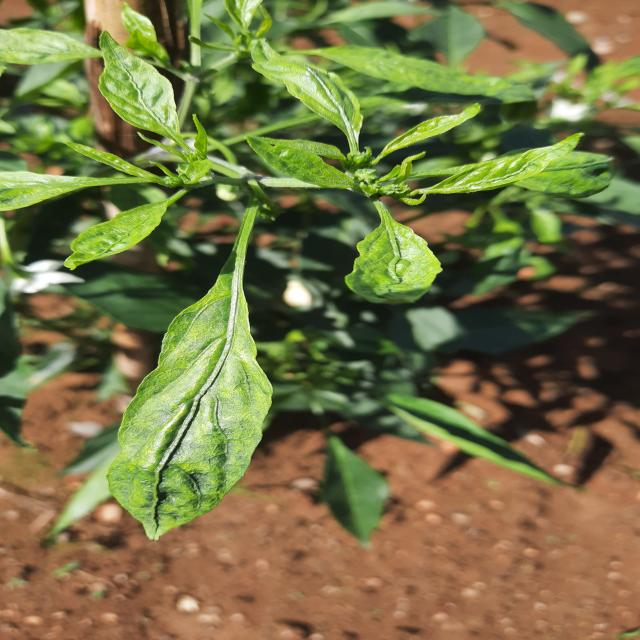thrips: (91, 274, 316, 556), (74, 22, 225, 142), (344, 208, 458, 336)
